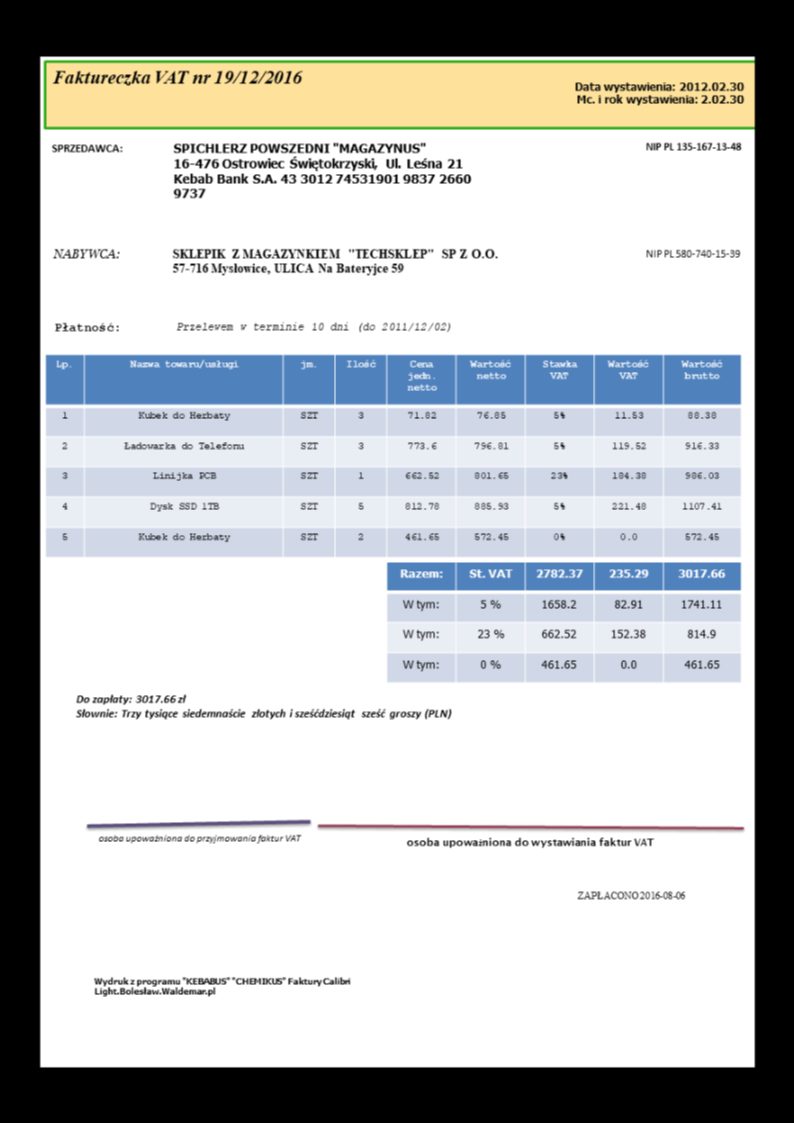Table: (43, 351, 743, 559), (385, 561, 742, 683)
TextBox: (170, 139, 474, 200), (73, 691, 453, 722), (170, 245, 498, 277), (92, 973, 353, 997), (51, 66, 304, 89), (174, 317, 452, 335), (572, 78, 745, 106), (403, 834, 654, 850), (96, 831, 302, 846), (573, 887, 687, 902), (644, 246, 742, 261), (644, 138, 744, 152), (50, 243, 122, 261), (50, 140, 123, 155), (52, 319, 123, 333)
